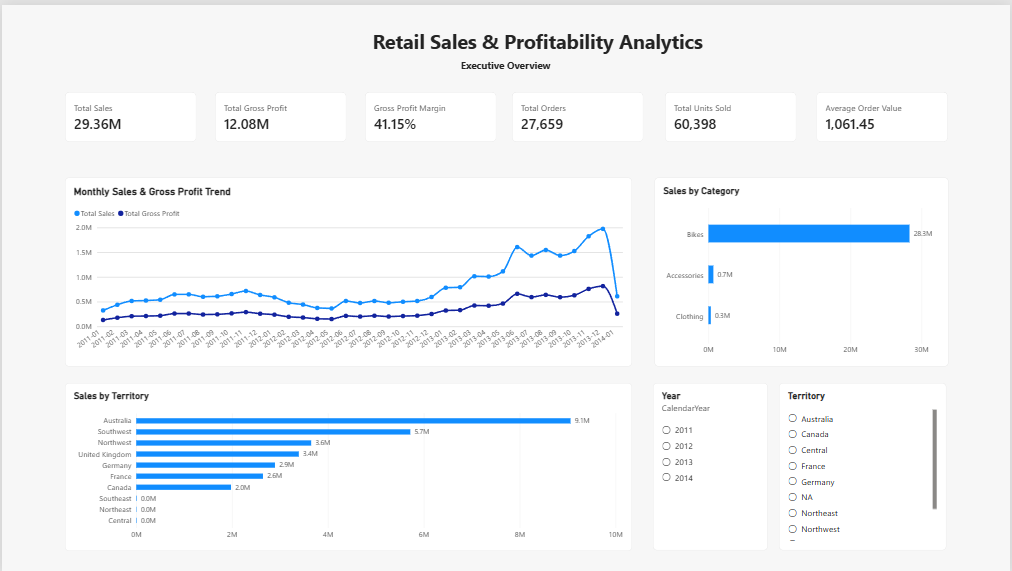

This screenshot's page, from the dashboard's own definition file:
{"tool":"powerbi","page":{"name":"Executive Overview","canvas":[1920,1080],"ordinal":0},"visuals":[{"type":"cardVisual","fields":{"Data":["FactInternetSales.Total Sales"]},"box":[120,165,250,95],"z":0},{"type":"cardVisual","fields":{"Data":["FactInternetSales.Total Gross Profit"]},"box":[406,165,250,95],"z":1000},{"type":"cardVisual","fields":{"Data":["FactInternetSales.Gross Profit Margin"]},"box":[692,165,250,95],"z":2000},{"type":"cardVisual","fields":{"Data":["FactInternetSales.Total Orders"]},"box":[972,165,250,95],"z":3000},{"type":"cardVisual","fields":{"Data":["FactInternetSales.Total Units Sold"]},"box":[1264,165,250,95],"z":4000},{"type":"cardVisual","fields":{"Data":["FactInternetSales.Average Order Value"]},"box":[1550,165,250,95],"z":5000},{"type":"textbox","box":[671.8,42.5,697.3,76.5],"z":6000},{"type":"textbox","box":[683.2,96.4,552.8,42.5],"z":7000},{"type":"lineChart","title":"Monthly Sales & Gross Profit Trend","fields":{"Category":["DimDate.YearMonth"],"Y":["FactInternetSales.Total Sales","FactInternetSales.Total Gross Profit"]},"box":[120,330,1080,360],"z":8000},{"type":"clusteredBarChart","title":"Sales by Category","fields":{"Category":["DimProduct_merge.EnglishProductCategoryName"],"Y":["FactInternetSales.Total Sales"]},"box":[1241.5,329.3,560,360],"z":9000},{"type":"clusteredBarChart","title":"Sales by Territory","fields":{"Category":["DimSalesTerritory.SalesTerritoryRegion"],"Y":["FactInternetSales.Total Sales"]},"box":[120,720,1080,320],"z":10000},{"type":"listSlicer","title":"Year","fields":{"Values":["DimDate.CalendarYear"]},"box":[1240.5,718.9,218.9,318.9],"z":11000},{"type":"listSlicer","title":"Territory","fields":{"Values":["DimSalesTerritory.SalesTerritoryRegion"]},"box":[1481.1,718.9,318.9,318.9],"z":12000}]}

Visuals, with their boxes in screenshot pixels (x1, y1, x2, y2), scaled from the page's 1920x1080 canvas onto the 1012x571 screenshot:
cardVisual - FactInternetSales.Total Sales: {"left": 63, "top": 87, "right": 195, "bottom": 137}
cardVisual - FactInternetSales.Total Gross Profit: {"left": 214, "top": 87, "right": 346, "bottom": 137}
cardVisual - FactInternetSales.Gross Profit Margin: {"left": 365, "top": 87, "right": 497, "bottom": 137}
cardVisual - FactInternetSales.Total Orders: {"left": 512, "top": 87, "right": 644, "bottom": 137}
cardVisual - FactInternetSales.Total Units Sold: {"left": 666, "top": 87, "right": 798, "bottom": 137}
cardVisual - FactInternetSales.Average Order Value: {"left": 817, "top": 87, "right": 949, "bottom": 137}
textbox: {"left": 354, "top": 22, "right": 722, "bottom": 63}
textbox: {"left": 360, "top": 51, "right": 651, "bottom": 73}
"Monthly Sales & Gross Profit Trend" lineChart: {"left": 63, "top": 174, "right": 632, "bottom": 365}
"Sales by Category" clusteredBarChart: {"left": 654, "top": 174, "right": 950, "bottom": 364}
"Sales by Territory" clusteredBarChart: {"left": 63, "top": 381, "right": 632, "bottom": 550}
"Year" listSlicer: {"left": 654, "top": 380, "right": 769, "bottom": 549}
"Territory" listSlicer: {"left": 781, "top": 380, "right": 949, "bottom": 549}
